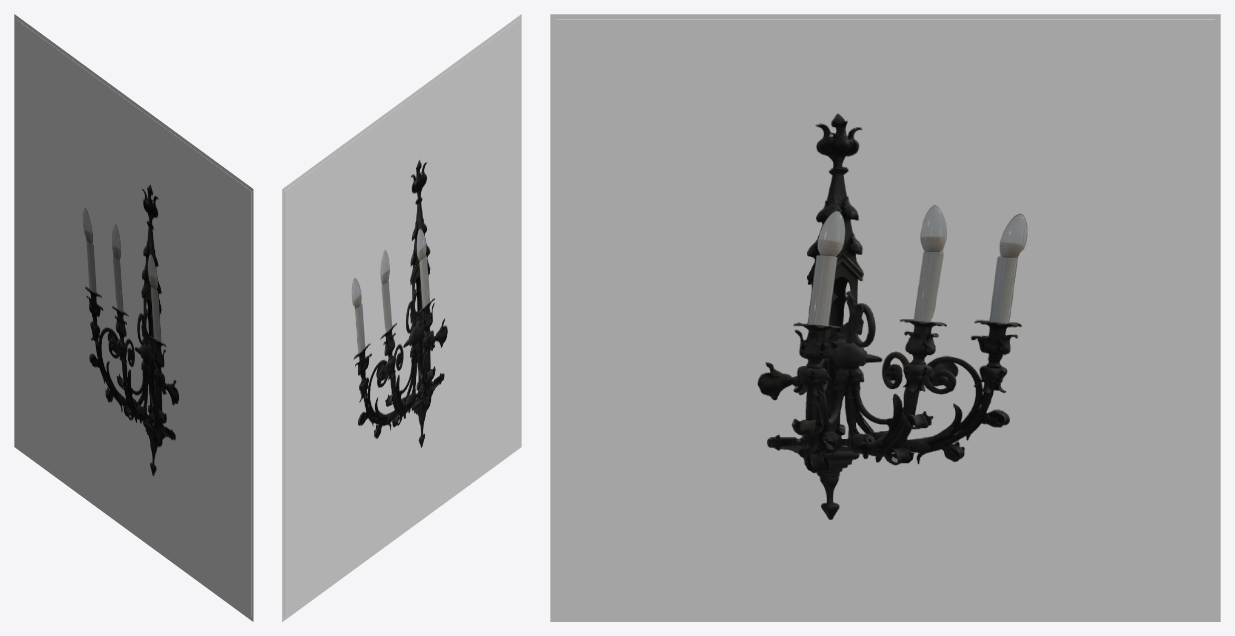
Rendered from 30-40. Kinkiet trzyświecowy.glb.
3 views of the same model, side by side, from view 1: azimuth 30°, elevation 25°; view 2: azimuth 150°, elevation 25°; view 3: azimuth 270°, elevation 25° (orthographic). The views are drawn at different scales.
Parts seen in each view (by area): view 1: Plane; view 2: Plane; view 3: Plane.
Boxes of the visible parts, bbox=[...] form: Plane: bbox=[14, 14, 253, 621]; Plane: bbox=[282, 14, 521, 621]; Plane: bbox=[550, 14, 1220, 621].
Size of the model in its own units: 0.0246 by 16 by 16.
1 material, 1 textured.
